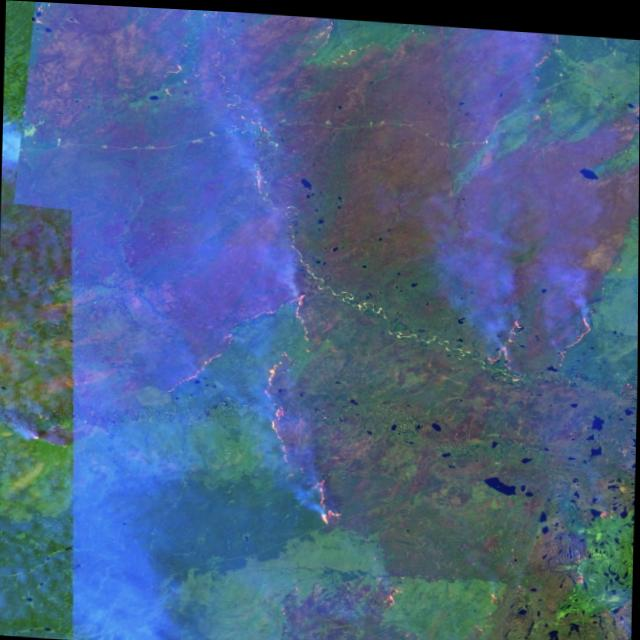fire: (261, 282, 366, 530), (148, 284, 271, 407), (482, 285, 594, 389), (241, 108, 306, 199), (15, 416, 81, 454)
